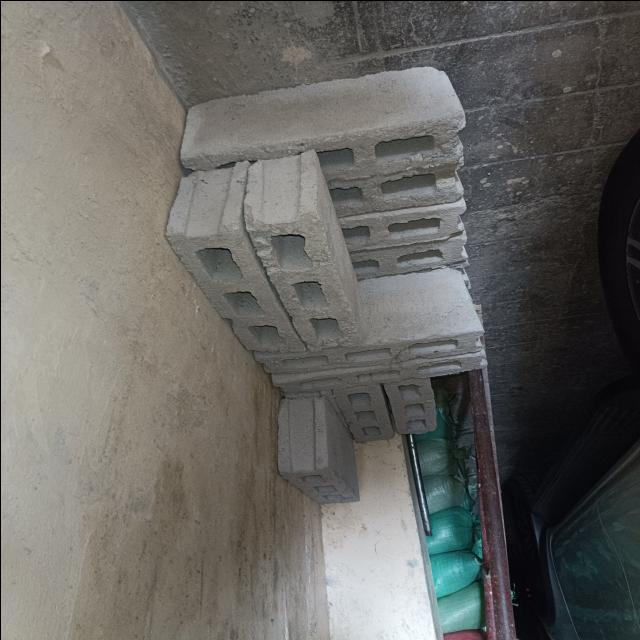Hollow blocks: (182, 77, 448, 167), (262, 168, 331, 340), (197, 165, 253, 360), (278, 399, 352, 507), (247, 338, 470, 371), (334, 166, 458, 212), (338, 205, 464, 246), (340, 244, 466, 285), (275, 363, 472, 388), (392, 380, 432, 434), (345, 387, 385, 441)
